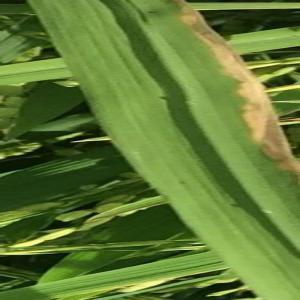2 BacterialBlight: (103, 1, 282, 239)
